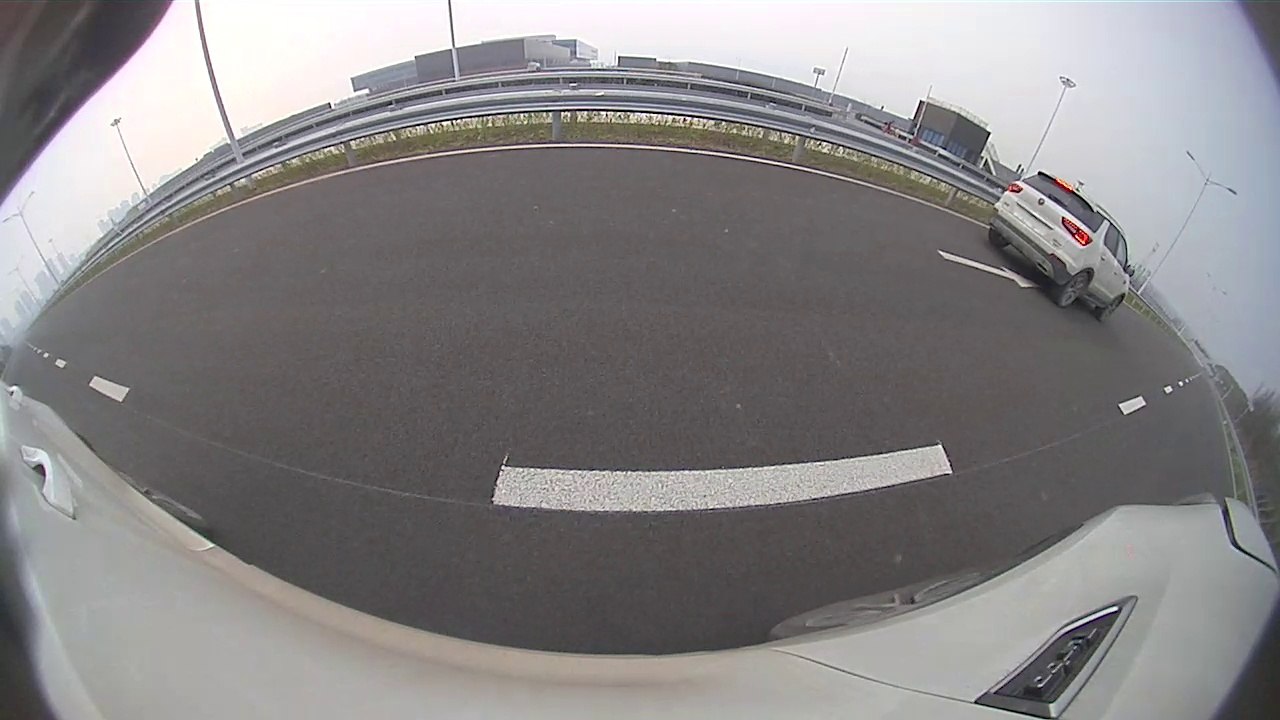car: (987, 170, 1136, 323)
rear: (1057, 271, 1091, 311)
